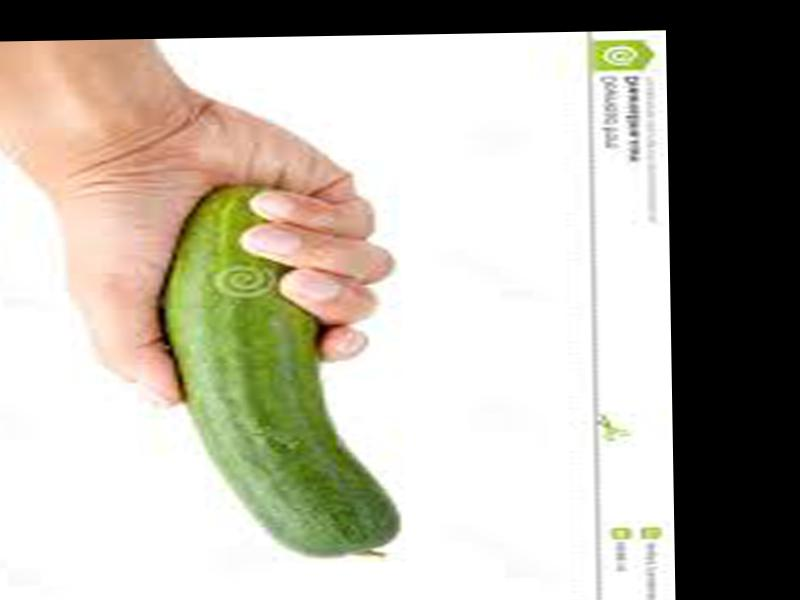Cucumber: (167, 183, 401, 562)
